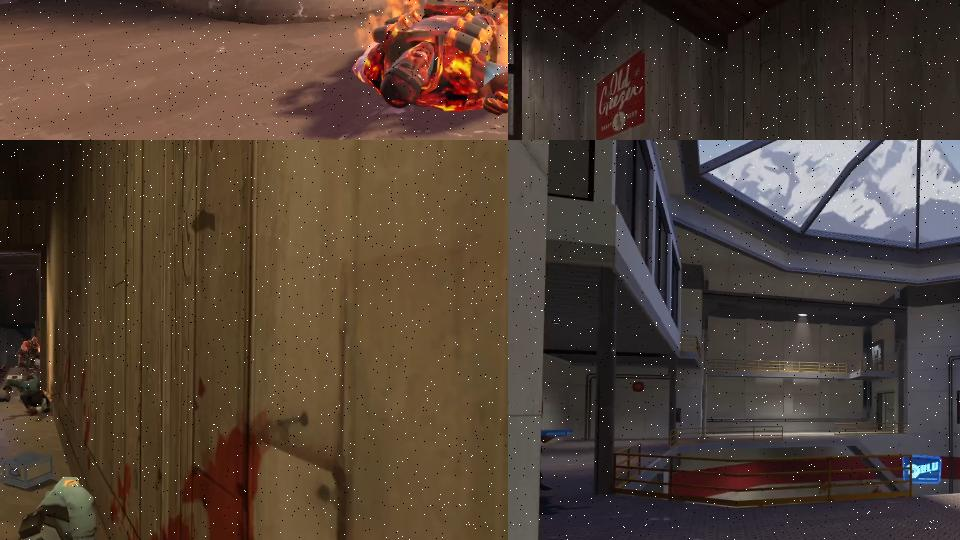Enemy: (360, 0, 508, 117), (2, 474, 101, 540), (0, 376, 51, 415), (21, 336, 40, 366)
